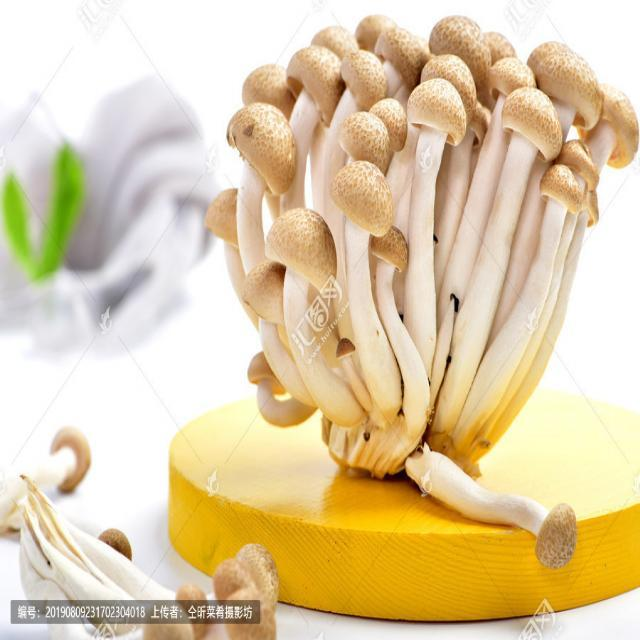Hypsizygus marmoreus: (204, 16, 640, 560), (0, 427, 282, 637)
